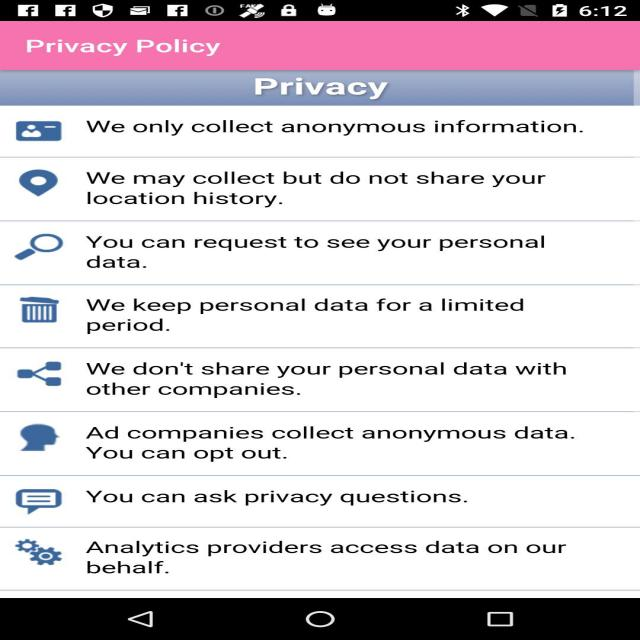button: (1, 109, 76, 583), (0, 593, 553, 638)
icon: (1, 1, 640, 22)
text: (92, 119, 588, 579), (21, 30, 259, 70), (226, 72, 432, 106)
